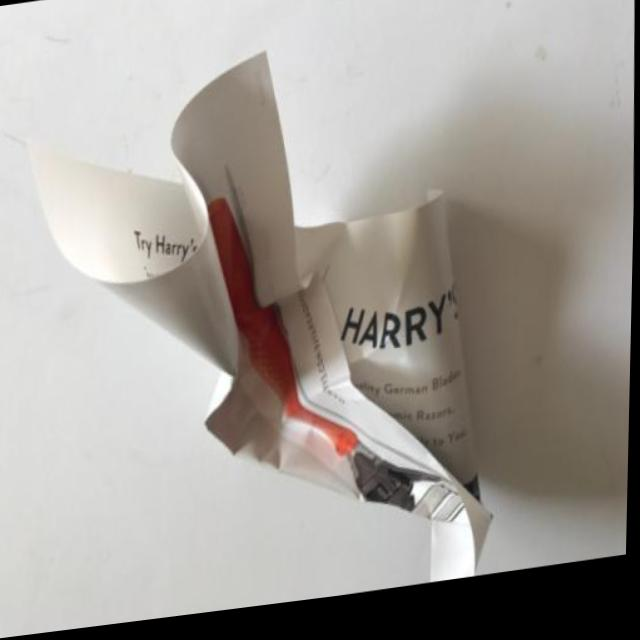paper: (0, 17, 599, 639)
